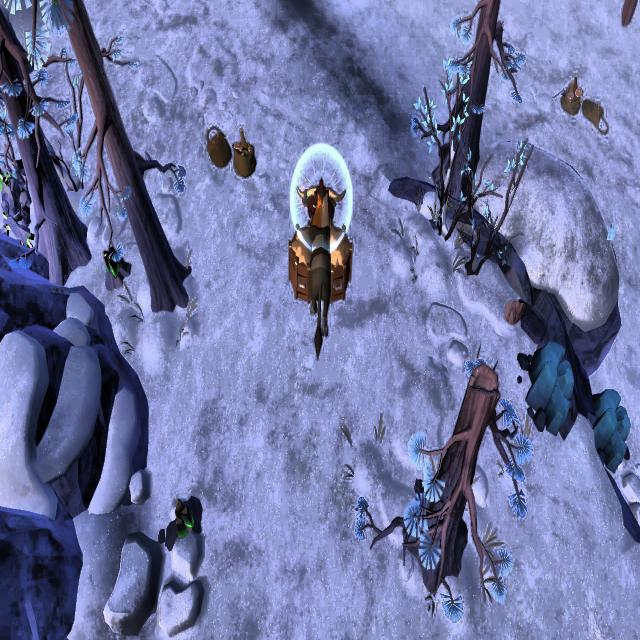ore_t3: (173, 496, 195, 540), (102, 246, 120, 283)
rock_t4: (524, 333, 578, 440), (586, 377, 631, 476)
